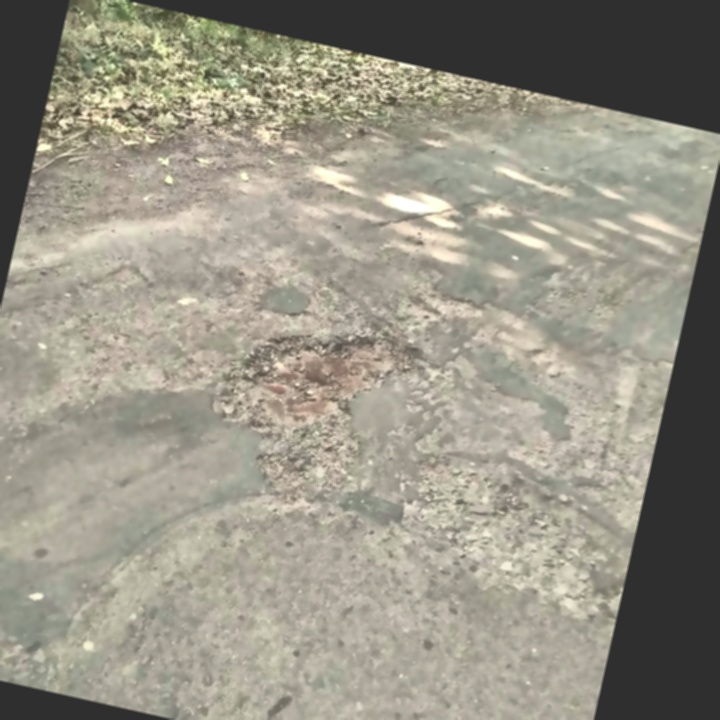pothole: (215, 299, 431, 467)
